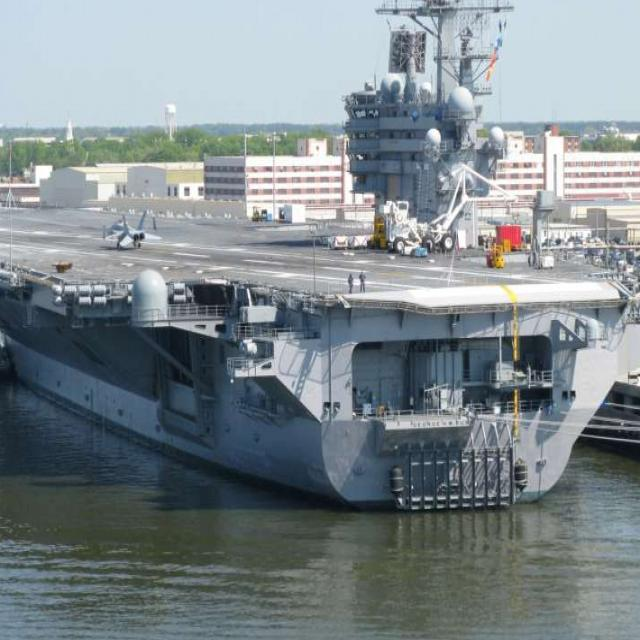Portanaves: (1, 1, 640, 517)
